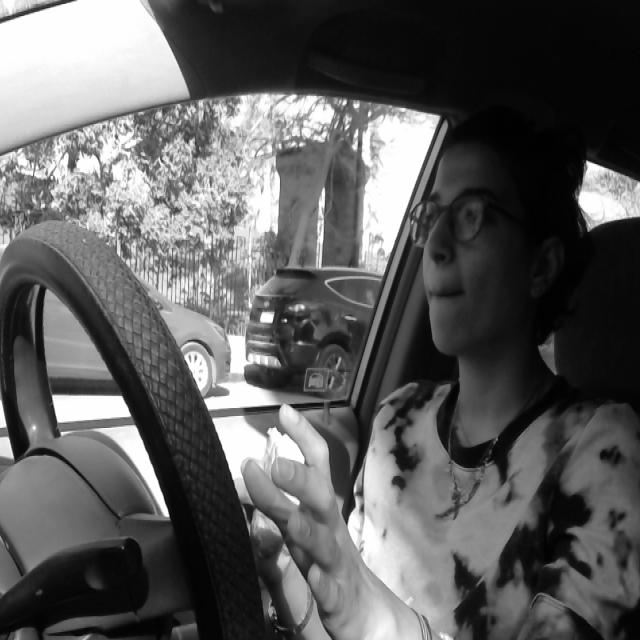eating: (239, 414, 325, 578)
